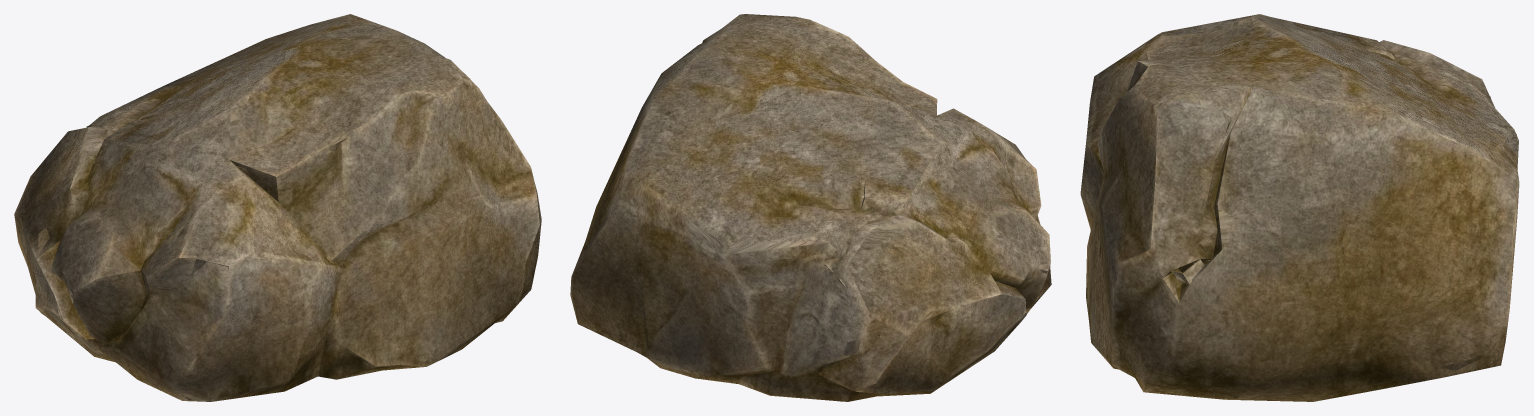
3 renders of one model, left to right at view 1: azimuth 30°, elevation 25°; view 2: azimuth 150°, elevation 25°; view 3: azimuth 270°, elevation 25°, orthographic. The views are drawn at different scales.
Parts seen in each view (by area): view 1: valley-boulder.001; view 2: valley-boulder.001; view 3: valley-boulder.001.
Boxes of the visible parts, x1,y1,x2,y2 form: valley-boulder.001: (14, 14, 541, 401); valley-boulder.001: (570, 14, 1051, 401); valley-boulder.001: (1080, 14, 1519, 401).
Size of the model in its own units: 2.82 by 1.65 by 2.21.
1 material, 1 textured.
